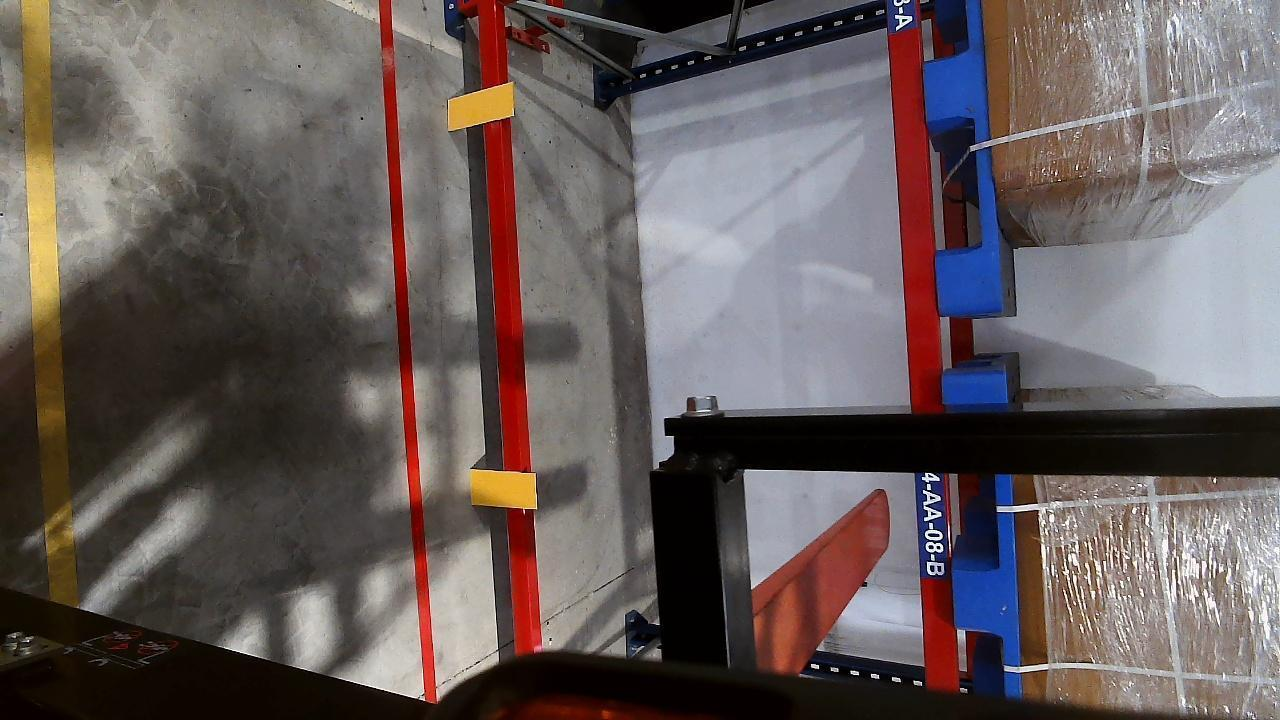red_line: (381, 0, 439, 695)
yellow_line: (17, 0, 75, 602)
